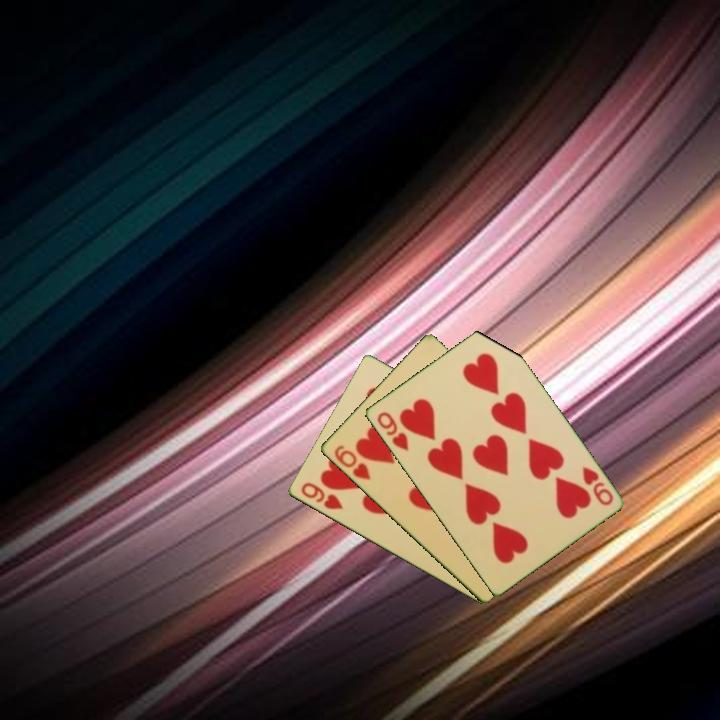6h: (330, 442, 373, 483)
9h: (373, 408, 411, 454), (578, 462, 616, 508), (297, 479, 346, 513)
